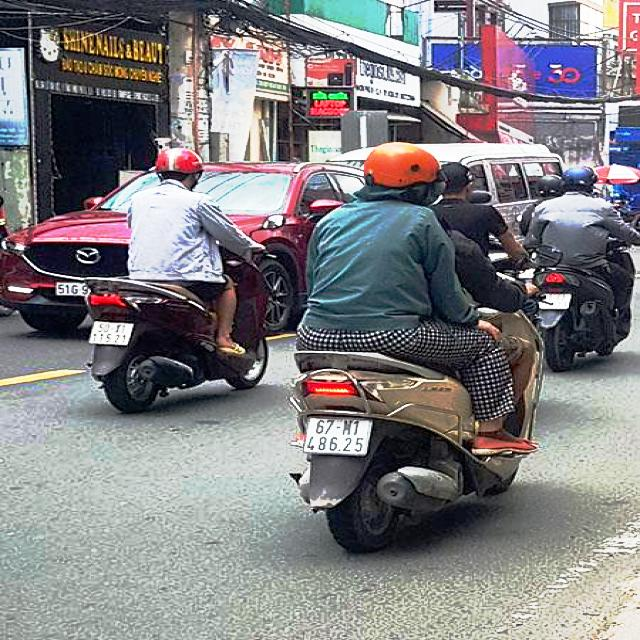license_plate: (305, 418, 372, 456), (89, 321, 136, 347)
